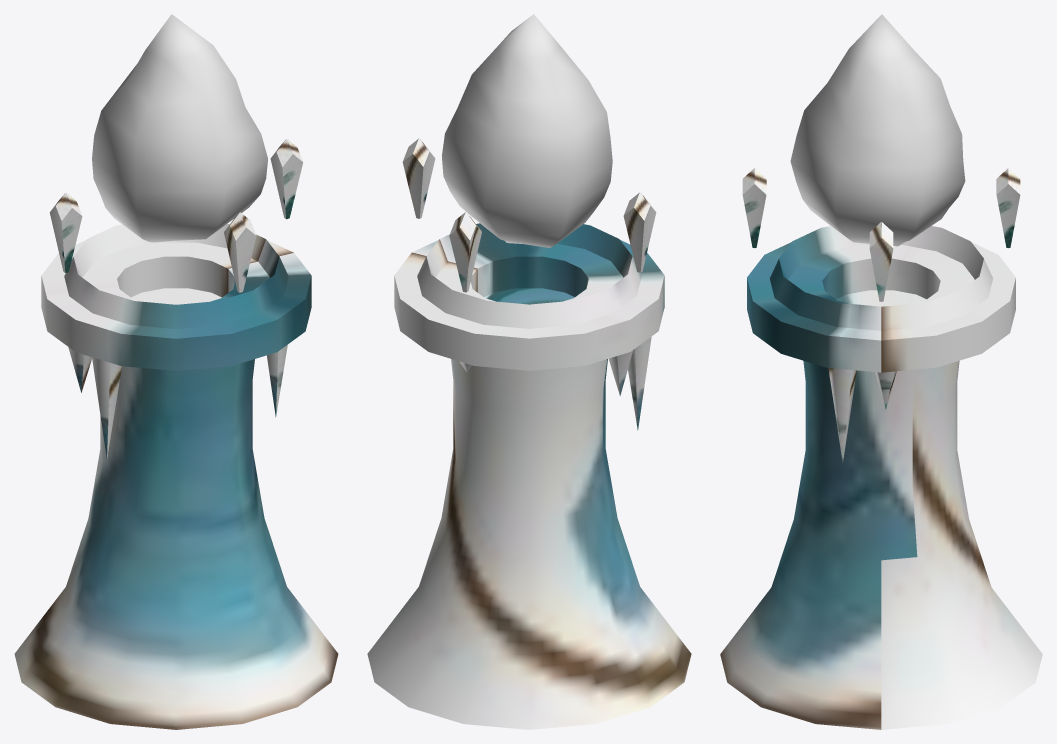
Rendered from IceTower.FBX.
3 views of the same model, side by side, from view 1: azimuth 30°, elevation 25°; view 2: azimuth 150°, elevation 25°; view 3: azimuth 270°, elevation 25° (orthographic).
Parts seen in each view (by area): view 1: Cylinder010, Line001; view 2: Cylinder010, Line001; view 3: Cylinder010, Line001.
Part boxes in pixels (<box>): Cylinder010: <box>14,139,338,729</box>; Line001: <box>92,14,267,242</box>; Cylinder010: <box>367,138,691,729</box>; Line001: <box>442,14,612,247</box>; Cylinder010: <box>720,168,1042,729</box>; Line001: <box>790,14,965,246</box>.
Size of the model in its own units: 24.88 by 55.2 by 25.02.
